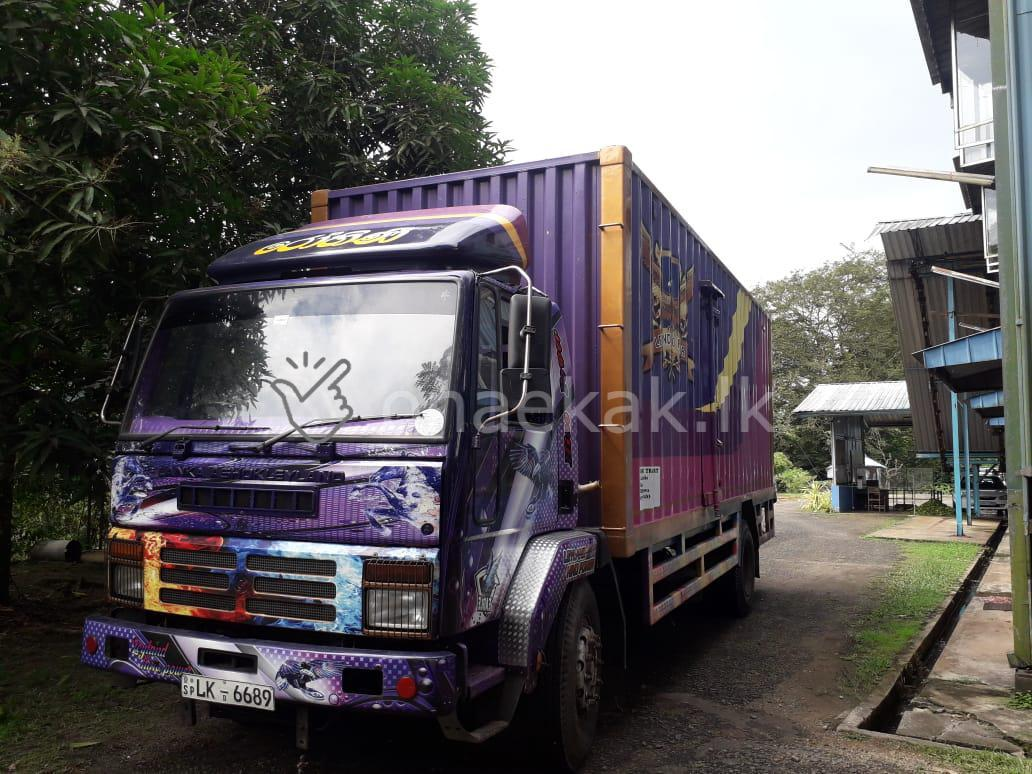truck: (80, 143, 774, 774)
